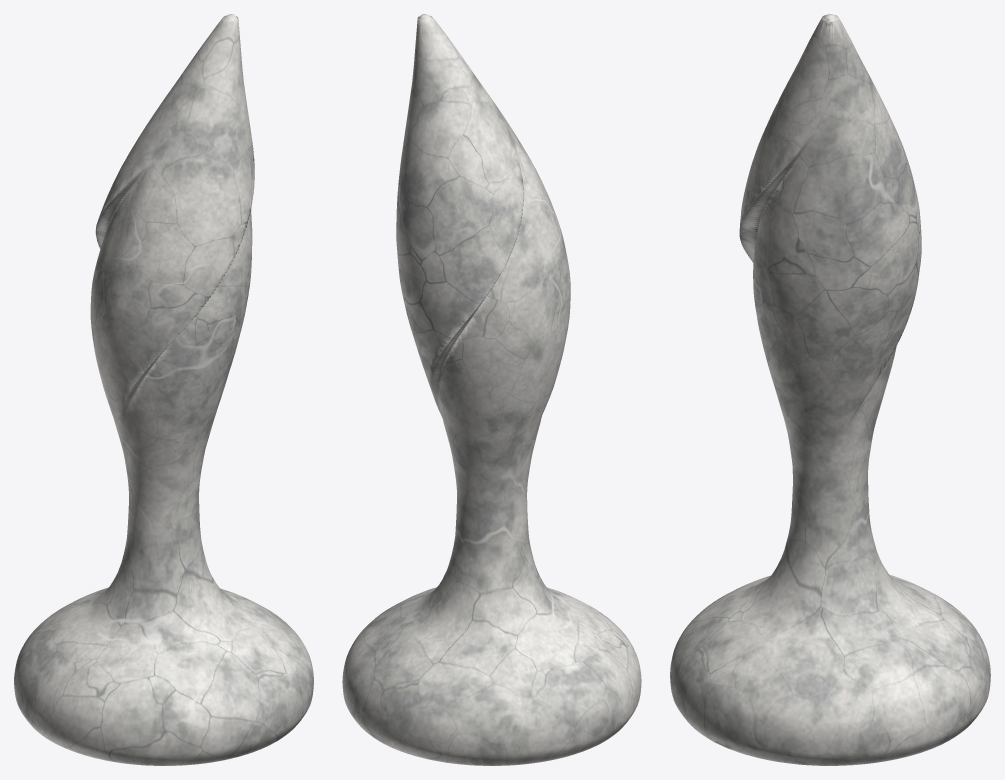
Rendered from queen-white-hd.glb.
3 renders of one model, left to right at view 1: azimuth 30°, elevation 25°; view 2: azimuth 150°, elevation 25°; view 3: azimuth 270°, elevation 25°, orthographic. The views are drawn at different scales.
Parts seen in each view (by area): view 1: Serpentina_queen_white; view 2: Serpentina_queen_white; view 3: Serpentina_queen_white.
Part boxes in pixels (x1,y1,x2,y2): Serpentina_queen_white: (14,14,313,765); Serpentina_queen_white: (342,14,641,765); Serpentina_queen_white: (670,14,990,765).
Bounding box in the file's own units: 0.6495 × 1.62 × 0.6493.
1 material, 1 textured.
